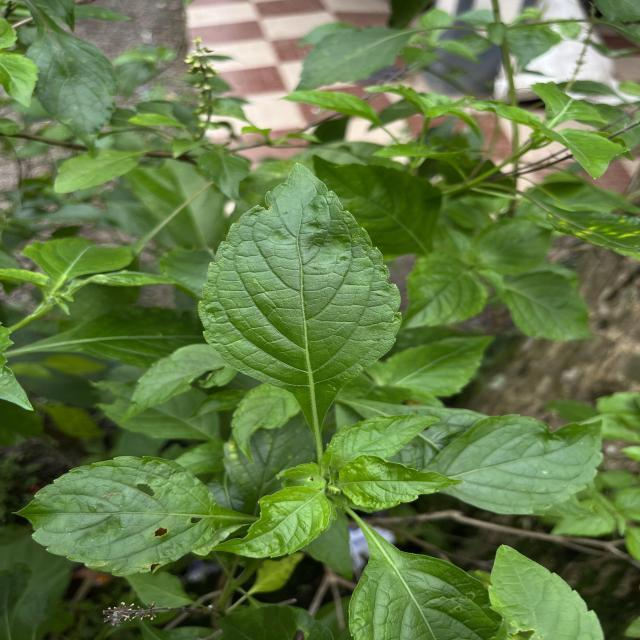Ocimum gratissimum: (195, 158, 406, 444), (3, 452, 244, 580), (344, 513, 536, 640), (207, 482, 334, 565), (334, 452, 468, 515)
